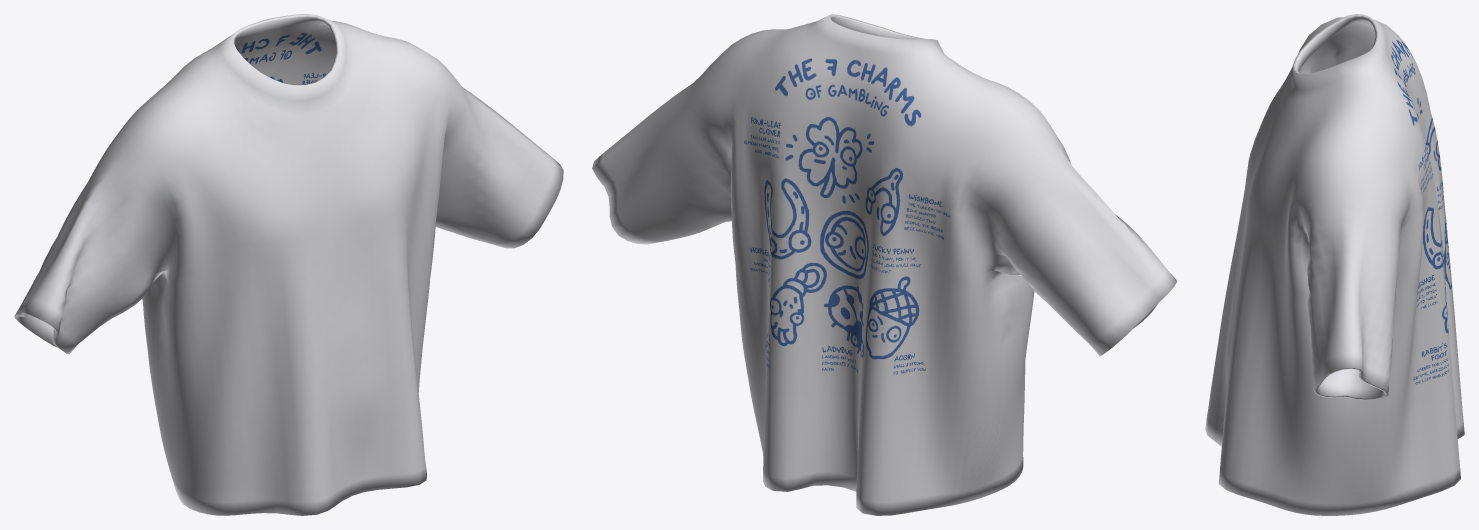
File: charms shirt.glb
3 views of the same model, side by side, from view 1: azimuth 30°, elevation 25°; view 2: azimuth 150°, elevation 25°; view 3: azimuth 270°, elevation 25° (orthographic). The views are drawn at different scales.
Visible parts, largest first — view 1: cafe casino shirt; view 2: cafe casino shirt; view 3: cafe casino shirt.
Boxes of the visible parts, left/top/right/bottom form: cafe casino shirt: left=14, top=14, right=563, bottom=515; cafe casino shirt: left=592, top=14, right=1176, bottom=515; cafe casino shirt: left=1205, top=14, right=1464, bottom=515.
Bounding box in the file's own units: 9.99 × 7.59 × 4.14.
Materials: 1 (1 with a texture image).
